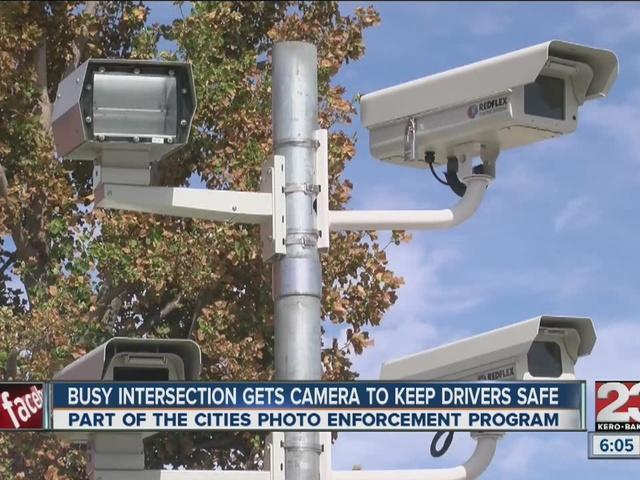Monitor: (358, 38, 618, 171), (366, 305, 600, 392), (50, 56, 197, 164), (43, 316, 218, 383)
